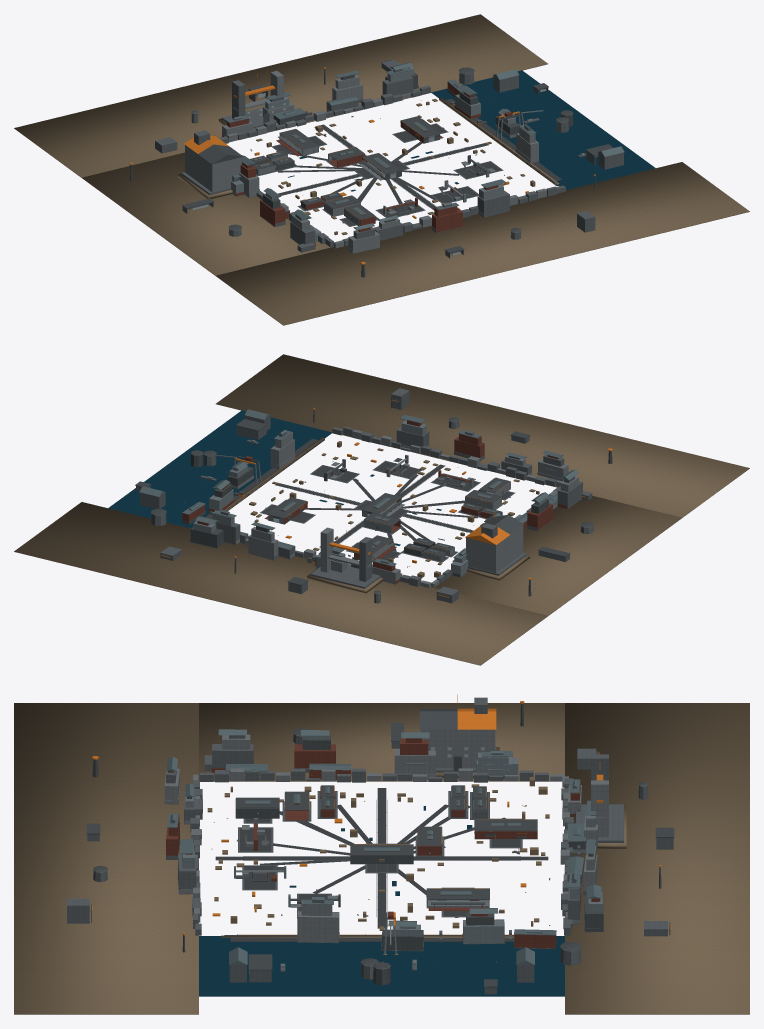
The model's file is souko-lod1.glb.
The picture shows the model from 3 angles, top to bottom: view 1: azimuth 30°, elevation 25°; view 2: azimuth 150°, elevation 25°; view 3: azimuth 270°, elevation 25°; orthographic projection. The views are drawn at different scales.
Visible parts, largest first — view 1: HB_souko_LOD1_terrain, HB_souko_LOD1_wall_alt, HB_souko_LOD1_water, HB_souko_LOD1_wall, HB_souko_LOD1_road, HB_souko_LOD1_trim, HB_souko_LOD1_wall_warm, HB_souko_LOD1_roof, HB_souko_LOD1_wall_cool, HB_souko_LOD1_wall_weathered, HB_souko_LOD1_LANDMARK_1_wall, HB_souko_LOD1_obstacle (+2 smaller); view 2: HB_souko_LOD1_terrain, HB_souko_LOD1_wall_alt, HB_souko_LOD1_water, HB_souko_LOD1_wall, HB_souko_LOD1_road, HB_souko_LOD1_trim, HB_souko_LOD1_roof, HB_souko_LOD1_wall_warm, HB_souko_LOD1_wall_cool, HB_souko_LOD1_wall_weathered, HB_souko_LOD1_LANDMARK_1_wall, HB_souko_LOD1_LANDMARK_0_wall_alt (+3 smaller); view 3: HB_souko_LOD1_terrain, HB_souko_LOD1_water, HB_souko_LOD1_wall_alt, HB_souko_LOD1_road, HB_souko_LOD1_wall, HB_souko_LOD1_trim, HB_souko_LOD1_roof, HB_souko_LOD1_wall_warm, HB_souko_LOD1_wall_weathered, HB_souko_LOD1_wall_cool, HB_souko_LOD1_LANDMARK_1_wall, HB_souko_LOD1_obstacle (+5 smaller).
Part boxes in pixels (bbox=[...]): HB_souko_LOD1_terrain: bbox=[14, 14, 749, 325]; HB_souko_LOD1_wall_alt: bbox=[155, 59, 623, 258]; HB_souko_LOD1_water: bbox=[288, 70, 655, 191]; HB_souko_LOD1_wall: bbox=[222, 75, 584, 253]; HB_souko_LOD1_road: bbox=[256, 98, 561, 226]; HB_souko_LOD1_trim: bbox=[130, 59, 613, 277]; HB_souko_LOD1_wall_warm: bbox=[222, 67, 512, 245]; HB_souko_LOD1_roof: bbox=[226, 62, 624, 235]; HB_souko_LOD1_wall_cool: bbox=[231, 67, 543, 241]; HB_souko_LOD1_wall_weathered: bbox=[252, 72, 573, 222]; HB_souko_LOD1_LANDMARK_1_wall: bbox=[185, 145, 242, 192]; HB_souko_LOD1_obstacle: bbox=[250, 99, 535, 235]; HB_souko_LOD1_terrain: bbox=[14, 354, 749, 665]; HB_souko_LOD1_wall_alt: bbox=[136, 388, 593, 603]; HB_souko_LOD1_water: bbox=[108, 410, 444, 545]; HB_souko_LOD1_wall: bbox=[207, 429, 578, 587]; HB_souko_LOD1_road: bbox=[205, 438, 515, 562]; HB_souko_LOD1_trim: bbox=[135, 398, 612, 603]; HB_souko_LOD1_roof: bbox=[139, 409, 579, 566]; HB_souko_LOD1_wall_warm: bbox=[182, 420, 567, 583]; HB_souko_LOD1_wall_cool: bbox=[193, 420, 545, 576]; HB_souko_LOD1_wall_weathered: bbox=[182, 442, 548, 576]; HB_souko_LOD1_LANDMARK_1_wall: bbox=[466, 526, 523, 572]; HB_souko_LOD1_LANDMARK_0_wall_alt: bbox=[310, 537, 380, 588]; HB_souko_LOD1_terrain: bbox=[14, 703, 749, 1014]; HB_souko_LOD1_water: bbox=[199, 806, 564, 996]; HB_souko_LOD1_wall_alt: bbox=[67, 734, 673, 994]; HB_souko_LOD1_road: bbox=[215, 788, 548, 941]; HB_souko_LOD1_wall: bbox=[164, 734, 598, 967]; HB_souko_LOD1_trim: bbox=[86, 703, 674, 987]; HB_souko_LOD1_roof: bbox=[166, 729, 601, 964]; HB_souko_LOD1_wall_warm: bbox=[166, 738, 600, 948]; HB_souko_LOD1_wall_weathered: bbox=[187, 735, 603, 985]; HB_souko_LOD1_wall_cool: bbox=[182, 735, 602, 954]; HB_souko_LOD1_LANDMARK_1_wall: bbox=[420, 729, 495, 768]; HB_souko_LOD1_obstacle: bbox=[89, 752, 668, 930].
Size of the model in its own units: 676 by 73.85 by 676.
14 materials, 11 textured.
